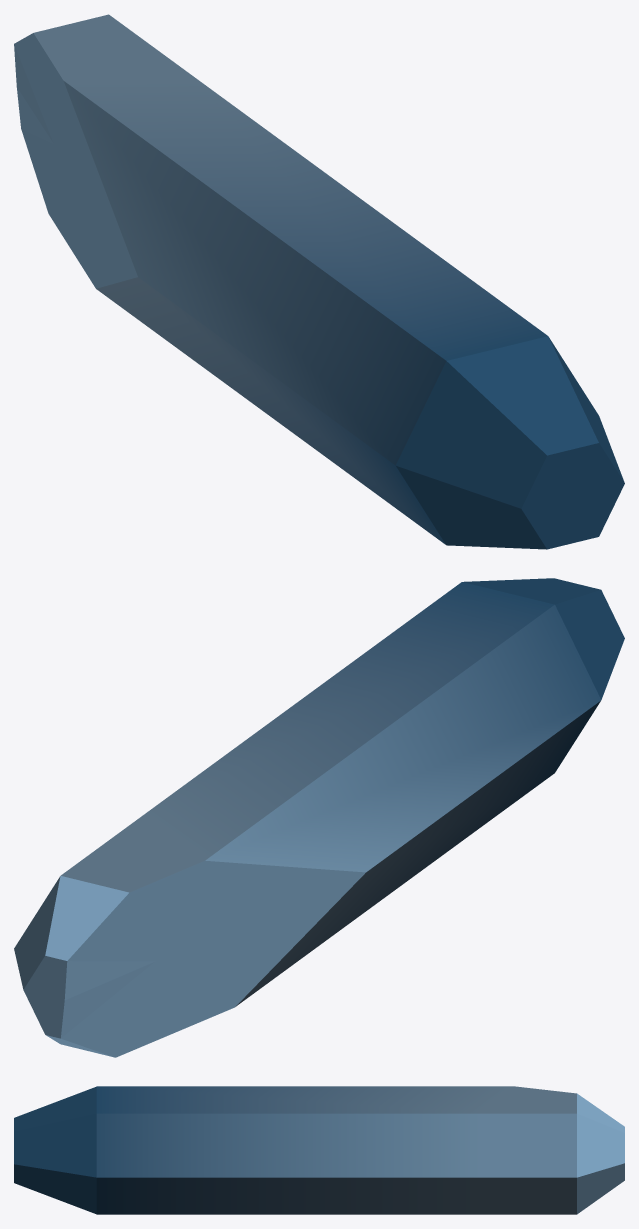
The model's file is IceCrystal.007.glb.
The picture shows the model from 3 angles, top to bottom: view 1: azimuth 30°, elevation 25°; view 2: azimuth 150°, elevation 25°; view 3: azimuth 270°, elevation 25°; orthographic projection. The views are drawn at different scales.
Parts seen in each view (by area): view 1: IceCrystal.007; view 2: IceCrystal.007; view 3: IceCrystal.007.
Boxes of the visible parts, x1,y1,x2,y2 form: IceCrystal.007: [14, 14, 624, 549]; IceCrystal.007: [14, 578, 624, 1057]; IceCrystal.007: [14, 1086, 624, 1214].
Size of the model in its own units: 148 by 128 by 704.
